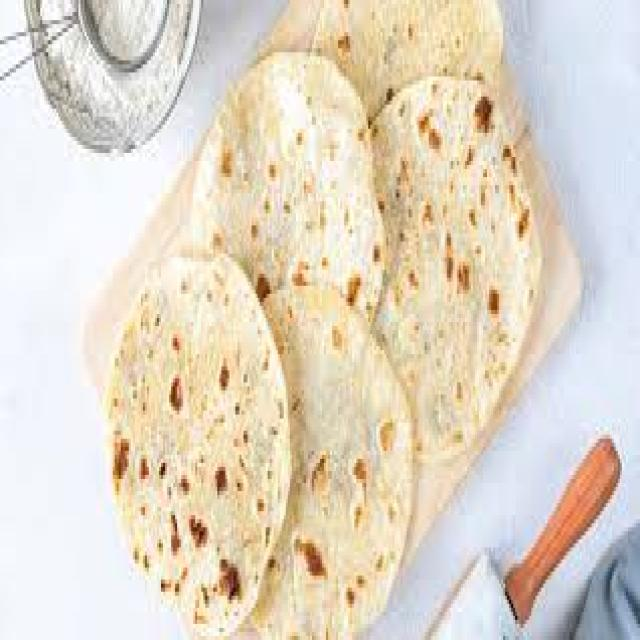ROTI: (106, 240, 292, 631), (368, 83, 540, 457), (253, 295, 412, 636), (190, 54, 380, 318), (316, 0, 503, 118)
